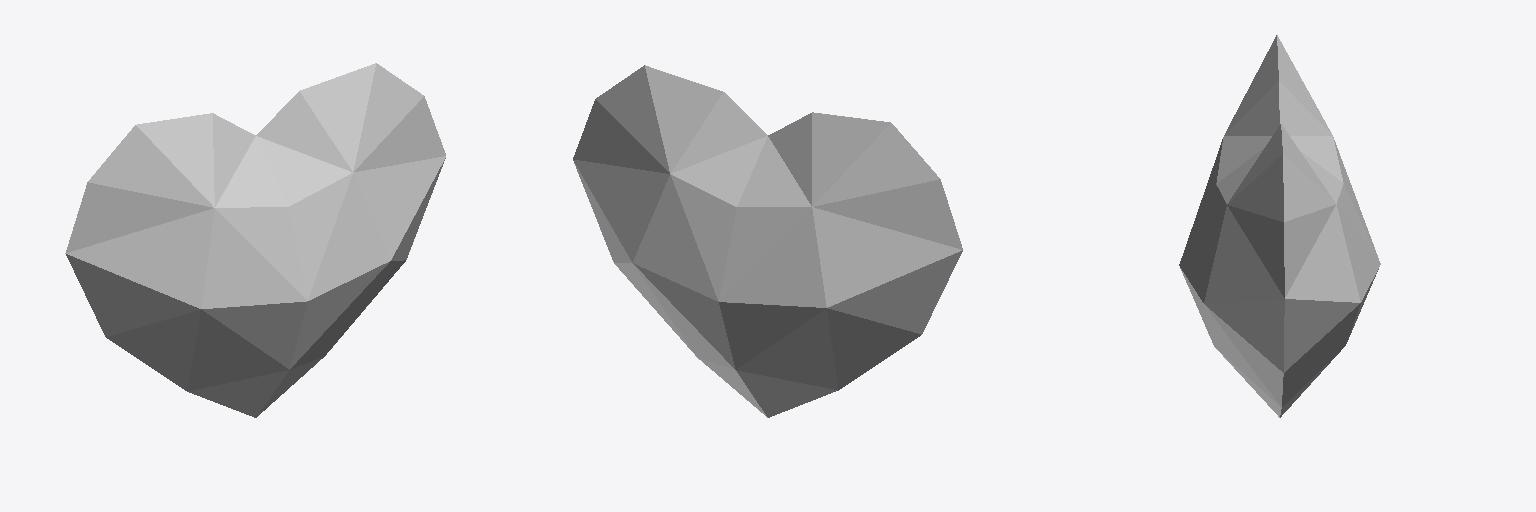
The model's file is _heart.obj.
3 renders of one model, left to right at view 1: azimuth 30°, elevation 25°; view 2: azimuth 150°, elevation 25°; view 3: azimuth 270°, elevation 25°, orthographic.
Visible parts, largest first — view 1: Plane.004_Plane.001; view 2: Plane.004_Plane.001; view 3: Plane.004_Plane.001.
Part boxes in pixels (bbox=[...]): Plane.004_Plane.001: bbox=[65, 63, 445, 417]; Plane.004_Plane.001: bbox=[573, 65, 962, 417]; Plane.004_Plane.001: bbox=[1179, 35, 1380, 417].
Size of the model in its own units: 1.62 by 1.3 by 0.7317.